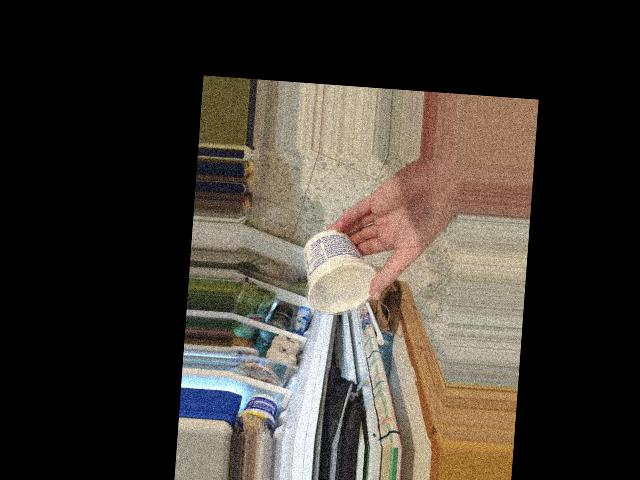cotage: (305, 225, 375, 316)
